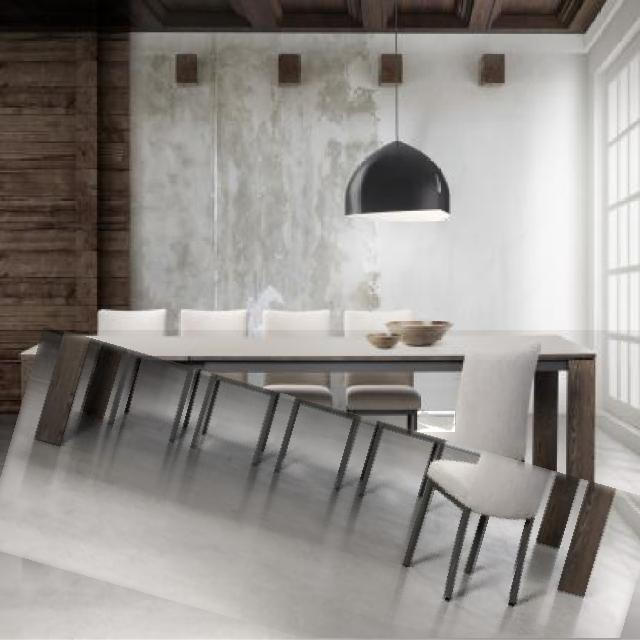floor: (0, 330, 640, 639), (417, 412, 455, 432)
